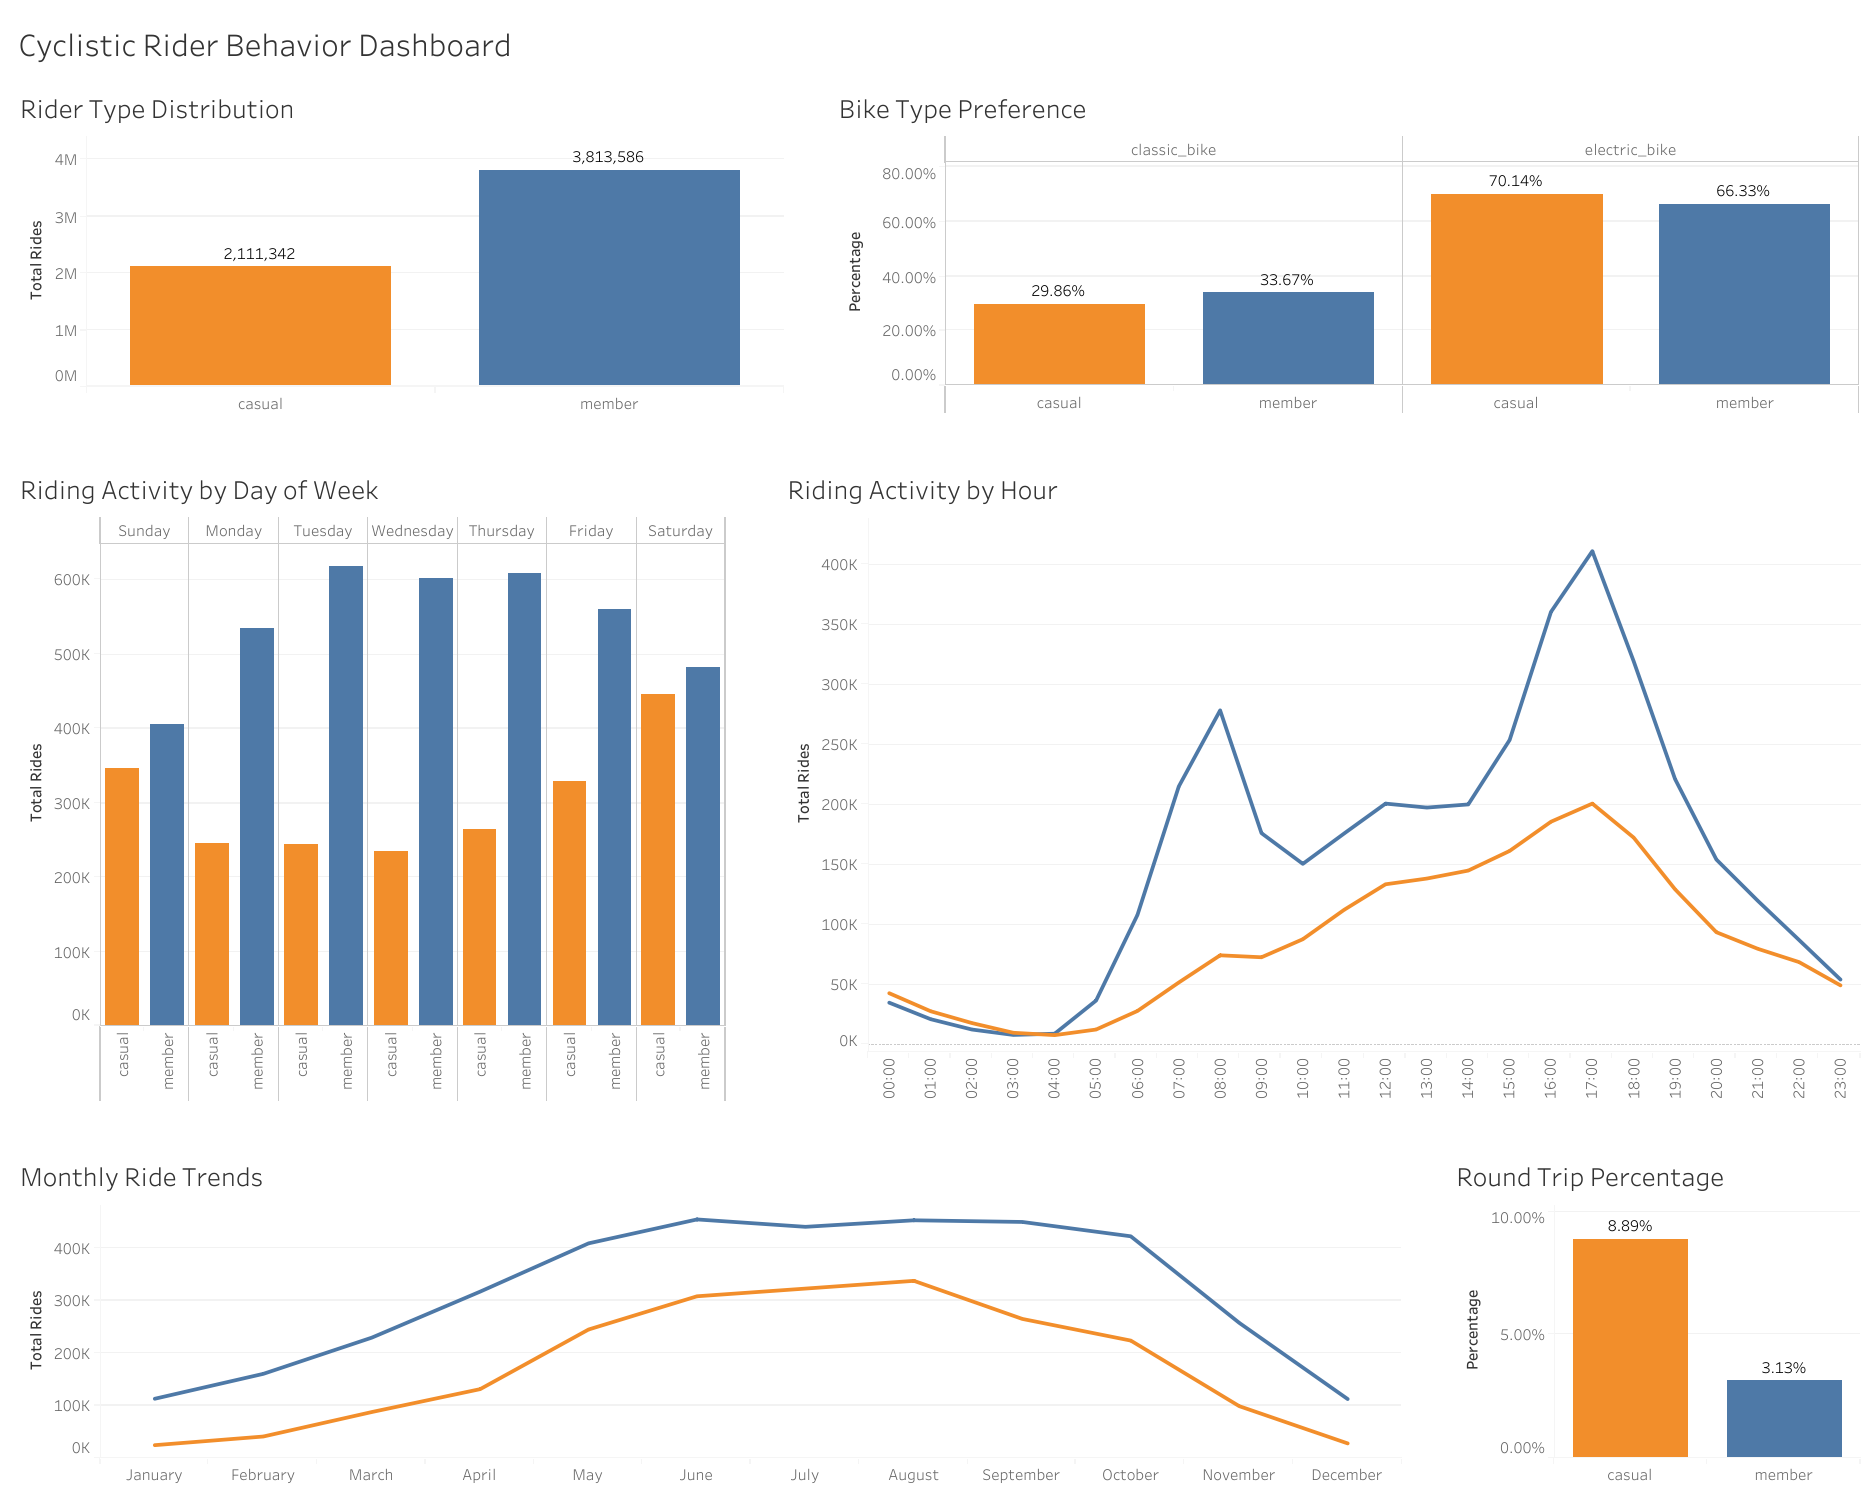

This screenshot's page, from the dashboard's own definition file:
{"tool":"tableau","page":{"name":"Dashboard 1 - Executive Summary","canvas":[1500,1200],"ordinal":0},"visuals":[{"type":"title","box":[8,8,1484,53.6]},{"type":"worksheet","title":"Rider Overview","mark":"Automatic","rows":["total_rides"],"cols":["member_casual"],"box":[8,61.6,623,273.1]},{"type":"text","box":[631,61.6,32,273.1]},{"type":"worksheet","title":"Bike Type","mark":"Automatic","rows":["percentage"],"cols":["category","member_casual"],"box":[663,61.6,829,273.1]},{"type":"text","box":[8,334.7,1484,32.3]},{"type":"worksheet","title":"Day of Week","mark":"Automatic","rows":["total_rides"],"cols":["category","member_casual"],"box":[8,367,577,518]},{"type":"text","box":[585,367,37,518]},{"type":"worksheet","title":"Hour of Day","mark":"Line","rows":["total_rides"],"cols":["category"],"box":[622,367,870,518]},{"type":"text","box":[8,885,1484,32]},{"type":"worksheet","title":"Monthly Trends","mark":"Line","rows":["total_rides"],"cols":["category"],"box":[8,917,1117,275]},{"type":"text","box":[1125,917,32,275]},{"type":"worksheet","title":"Round Trips","mark":"Automatic","rows":["percentage"],"cols":["member_casual"],"box":[1157,917,335,275]}]}

Visuals, with their boxes in screenshot pixels (x1, y1, x2, y2), scaled from the page's 1500x1200 canvas onto the 1874x1499 screenshot:
title: rect(10, 10, 1864, 77)
"Rider Overview" worksheet: rect(10, 77, 788, 418)
text: rect(788, 77, 828, 418)
"Bike Type" worksheet: rect(828, 77, 1864, 418)
text: rect(10, 418, 1864, 458)
"Day of Week" worksheet: rect(10, 458, 731, 1106)
text: rect(731, 458, 777, 1106)
"Hour of Day" worksheet (Line marks): rect(777, 458, 1864, 1106)
text: rect(10, 1106, 1864, 1145)
"Monthly Trends" worksheet (Line marks): rect(10, 1145, 1406, 1489)
text: rect(1406, 1145, 1445, 1489)
"Round Trips" worksheet: rect(1445, 1145, 1864, 1489)
